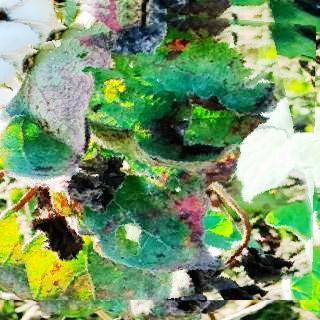blight: (0, 0, 316, 300)
